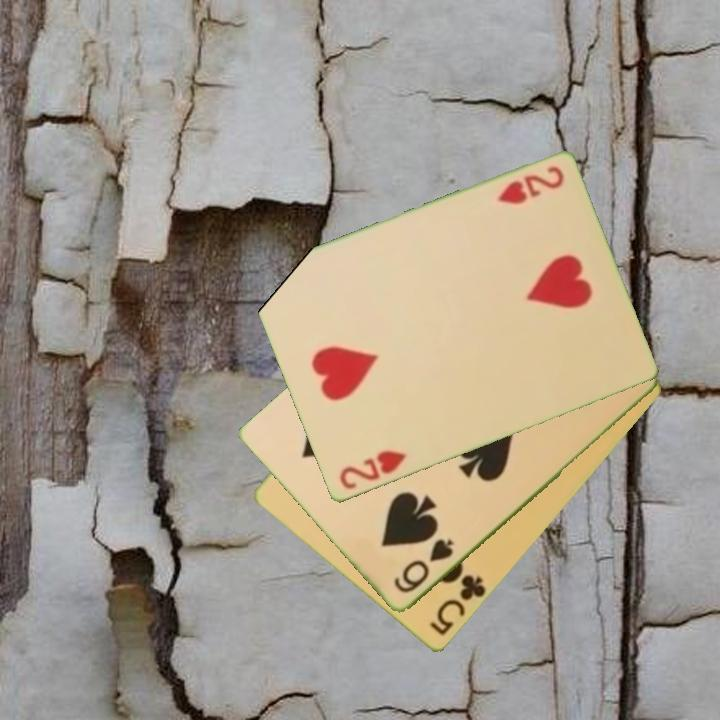2h: (335, 447, 409, 493), (494, 163, 567, 208)
5c: (425, 571, 489, 639)
6s: (390, 535, 457, 597)
